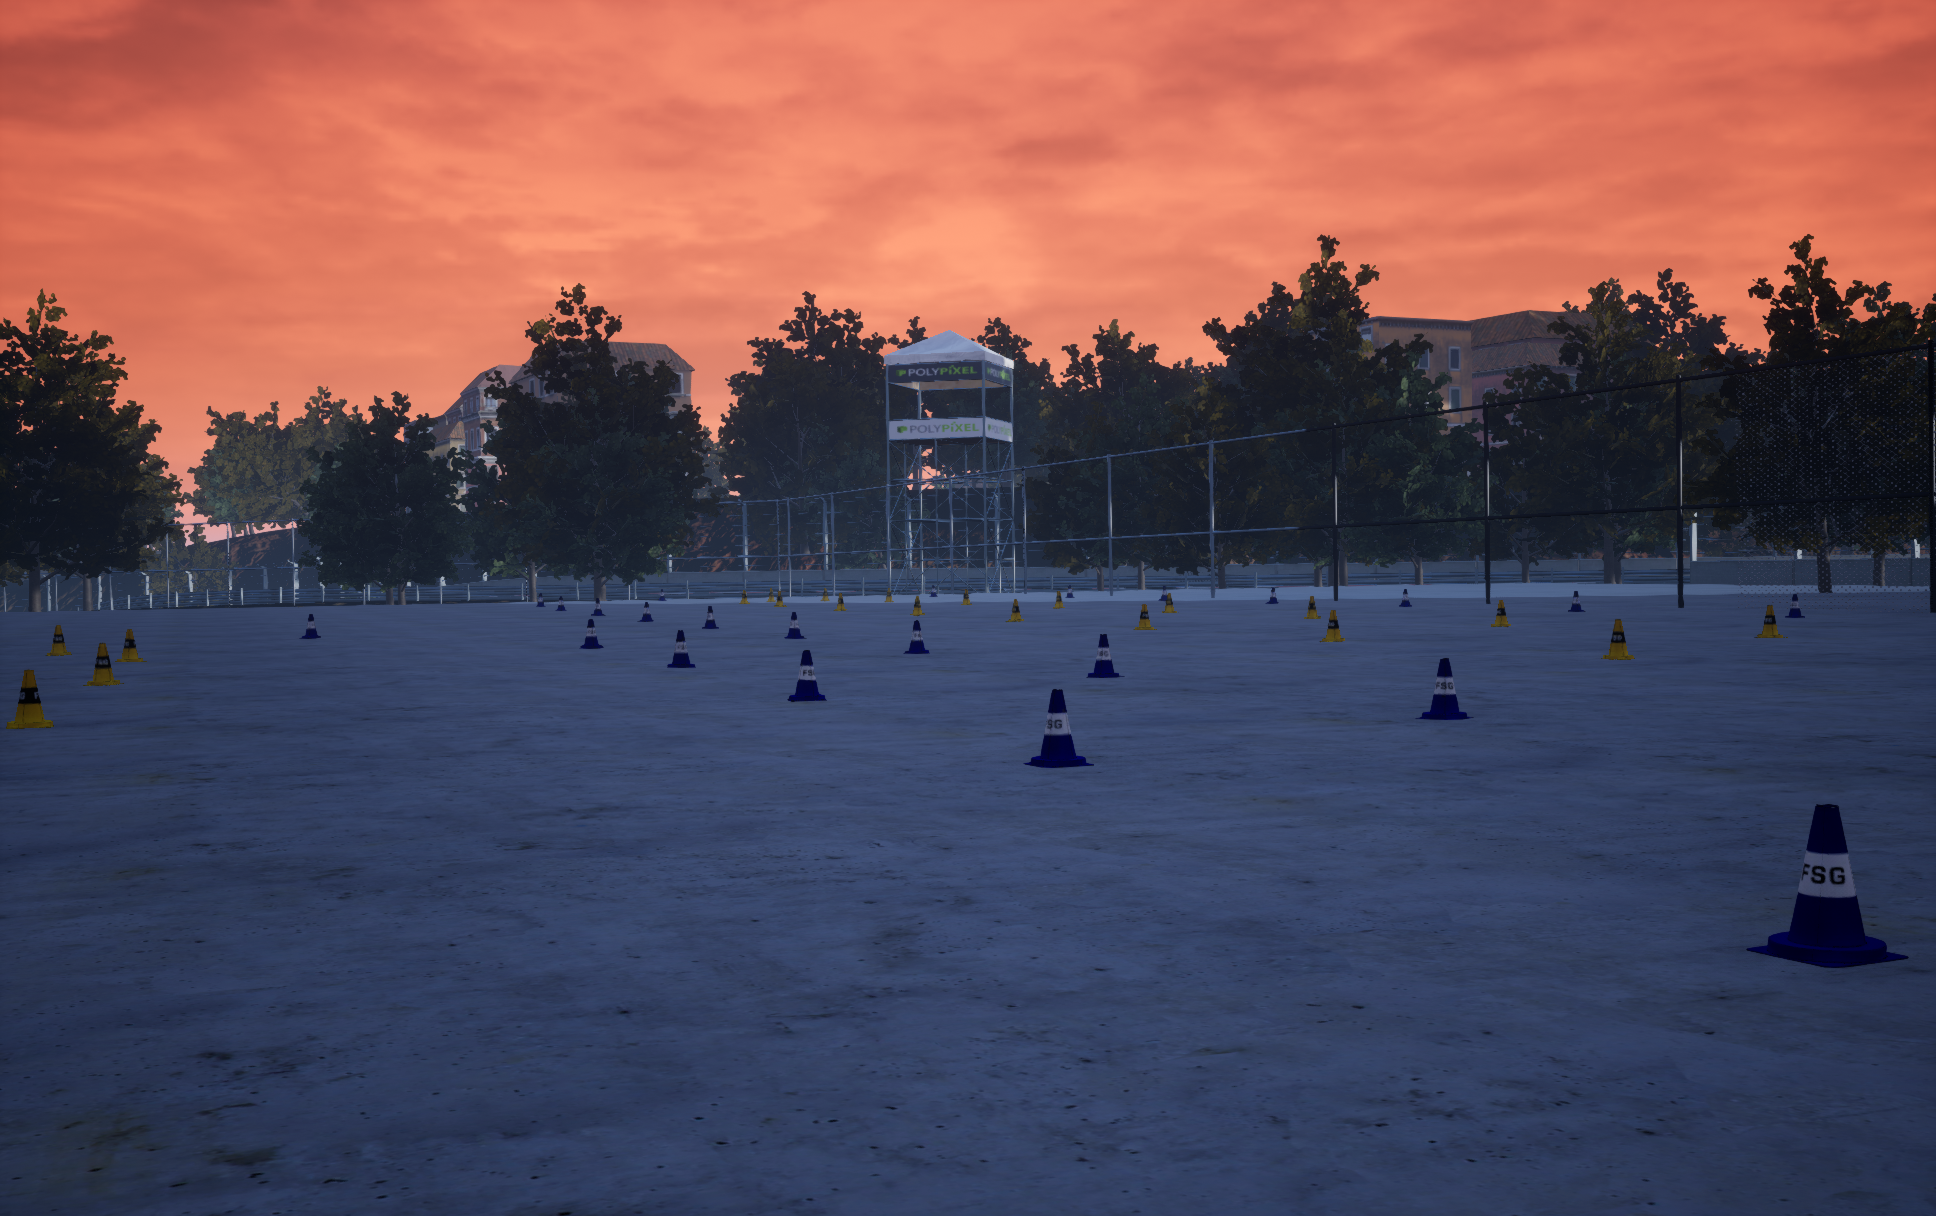blue: (6, 670, 53, 728), (83, 643, 123, 685), (1601, 619, 1633, 658), (1754, 605, 1788, 637), (115, 629, 146, 661), (45, 625, 71, 656), (1320, 609, 1343, 642), (1133, 604, 1156, 629), (1491, 600, 1510, 626), (1004, 600, 1023, 621), (1304, 595, 1320, 618), (1161, 593, 1178, 612), (911, 595, 925, 615)
yellow: (1745, 804, 1908, 967), (1023, 689, 1093, 766), (1415, 658, 1472, 719), (787, 650, 827, 700), (1086, 635, 1123, 677), (667, 630, 695, 667), (904, 621, 929, 653), (579, 619, 602, 649), (784, 612, 805, 637), (298, 614, 319, 637), (1785, 594, 1804, 616), (702, 607, 719, 628), (1568, 591, 1584, 611), (637, 602, 653, 621), (1399, 588, 1411, 607)
